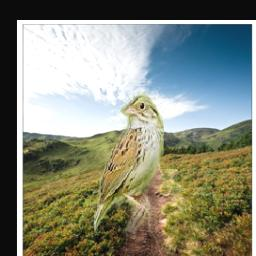Sparrow: (94, 92, 164, 235)
